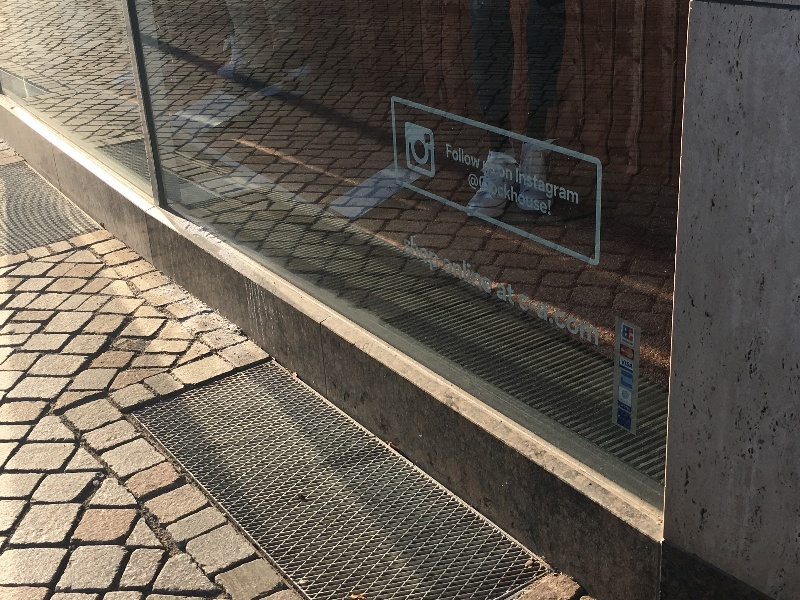text: (529, 293, 544, 347), (545, 293, 560, 347), (561, 293, 576, 347), (577, 293, 592, 347), (449, 249, 464, 295), (465, 249, 480, 295), (481, 174, 496, 217), (497, 174, 512, 217), (513, 174, 528, 217), (529, 174, 544, 217), (417, 232, 432, 275), (529, 167, 544, 204), (545, 167, 560, 204), (561, 167, 576, 204), (481, 249, 492, 295), (519, 293, 528, 347), (465, 142, 481, 170), (516, 167, 528, 204), (449, 142, 464, 170), (407, 232, 416, 275), (497, 283, 512, 306), (497, 160, 513, 181), (433, 232, 440, 275), (483, 160, 496, 181), (593, 293, 598, 347), (545, 174, 551, 217), (625, 324, 634, 343), (625, 358, 633, 370), (446, 249, 448, 295), (471, 176, 480, 186), (577, 167, 579, 204), (446, 142, 448, 170), (619, 401, 624, 411), (625, 401, 630, 411), (513, 283, 515, 306), (479, 174, 480, 217), (621, 358, 624, 370), (623, 324, 624, 343)
